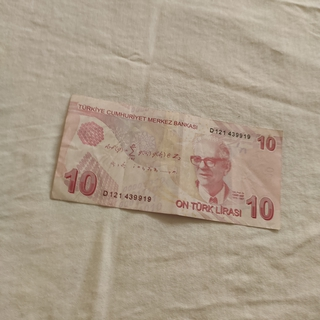10TLBack: (48, 92, 284, 231)
